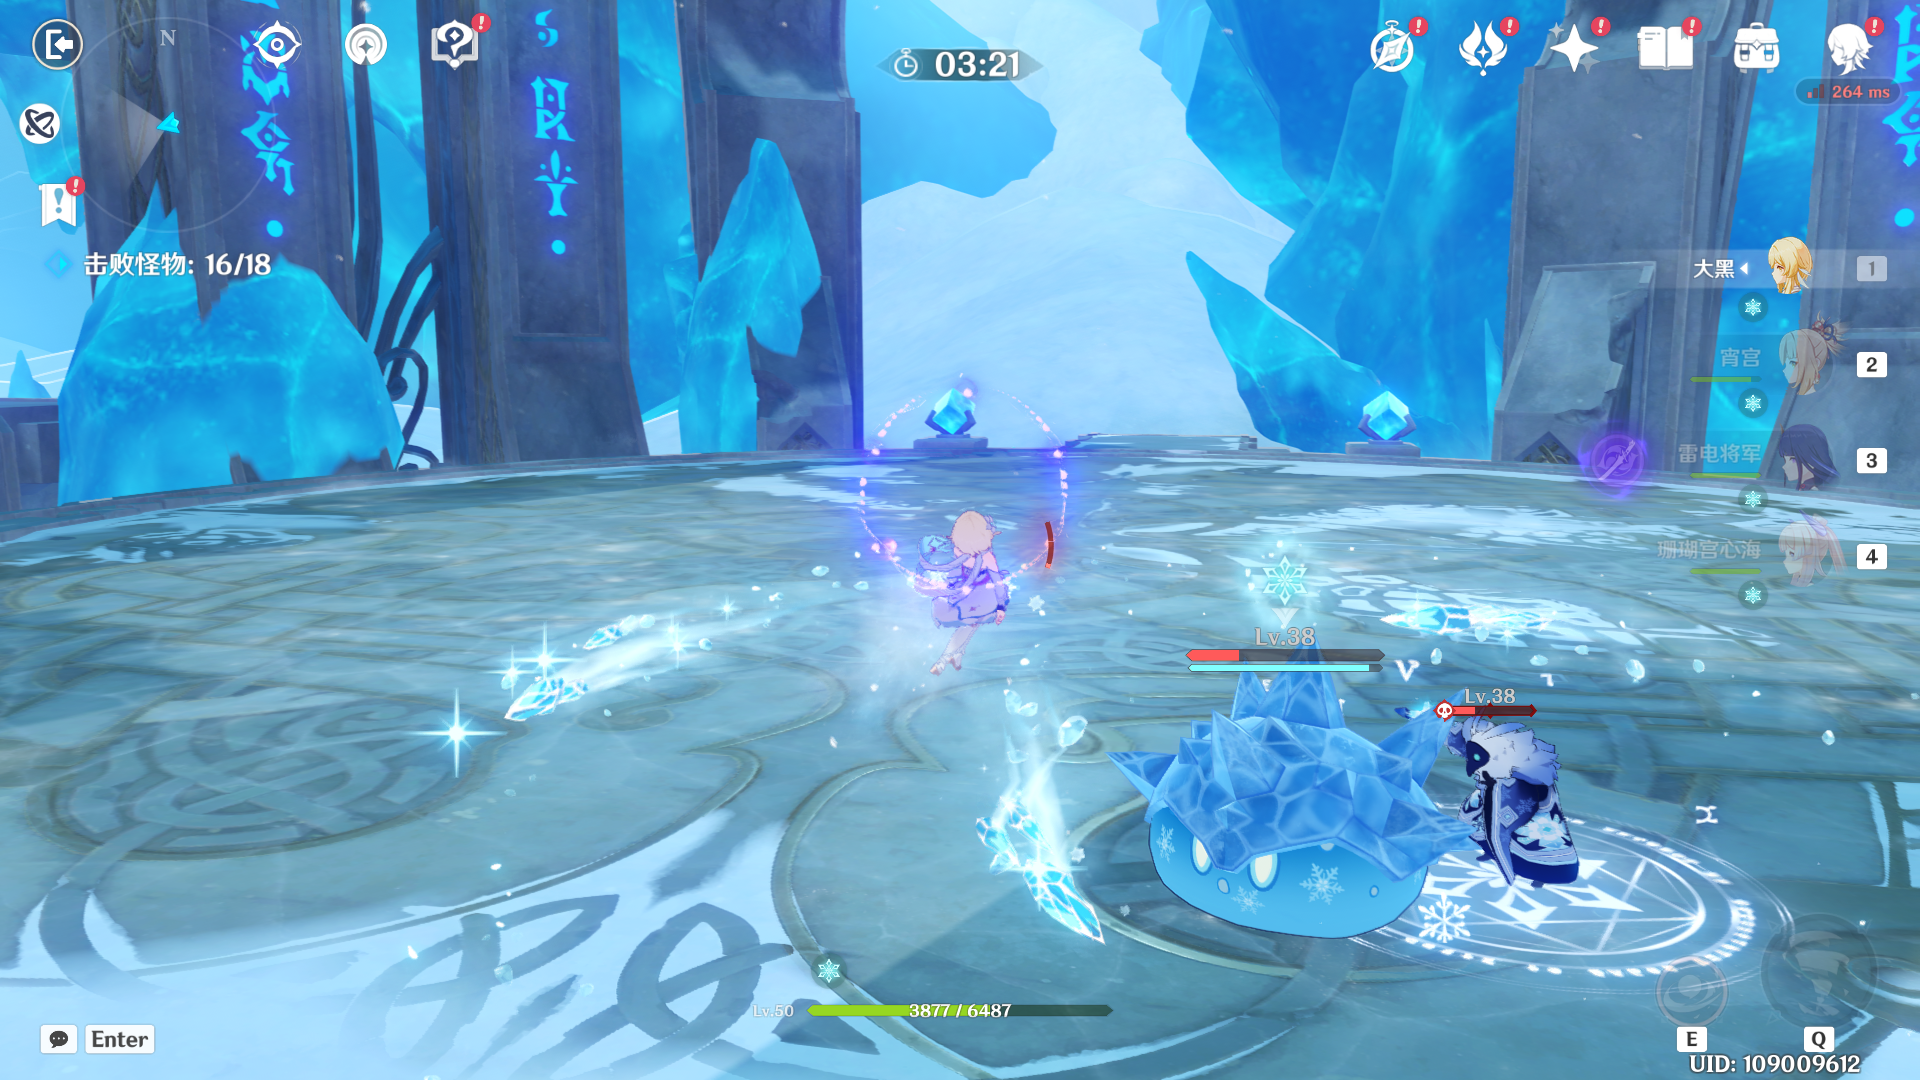caster: (1414, 687, 1636, 909)
character: (877, 489, 1068, 712)
slime: (1093, 638, 1494, 982)
